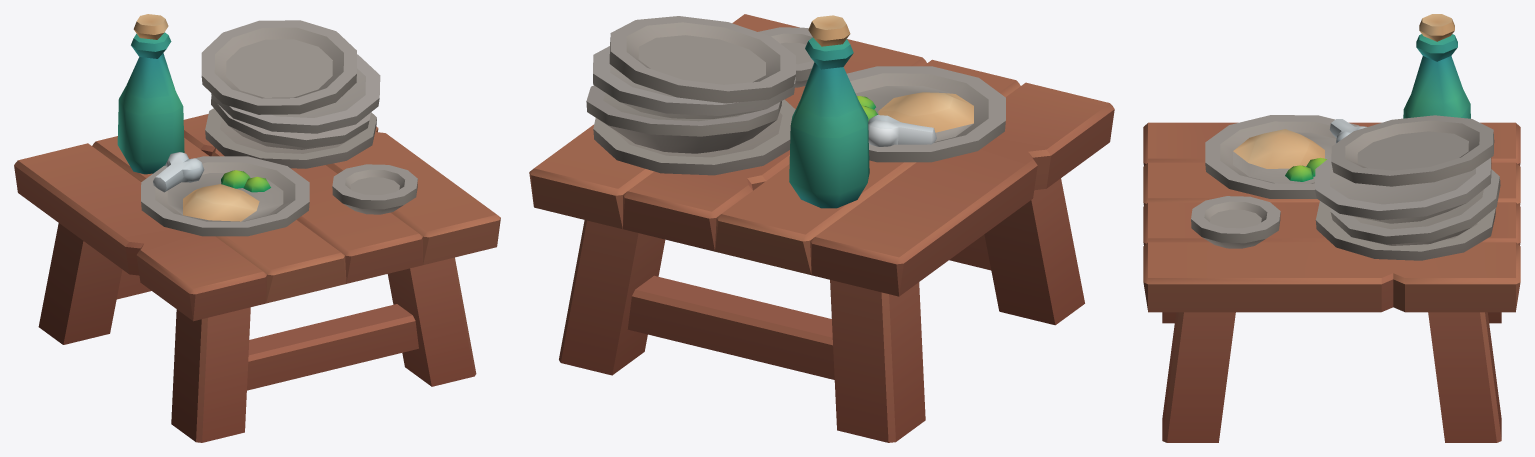
File: table_medium_decorated_A.glb
The picture shows the model from 3 angles, left to right: view 1: azimuth 30°, elevation 25°; view 2: azimuth 150°, elevation 25°; view 3: azimuth 270°, elevation 25°; orthographic projection. The views are drawn at different scales.
Visible parts, largest first — view 1: table_medium_decorated_A; view 2: table_medium_decorated_A; view 3: table_medium_decorated_A.
Part boxes in pixels (x1,y1,x2,y2): table_medium_decorated_A: [14, 14, 500, 442]; table_medium_decorated_A: [529, 14, 1114, 442]; table_medium_decorated_A: [1143, 14, 1520, 442].
Bounding box in the file's own units: 2 × 1.89 × 2.
Materials: 1 (1 with a texture image).
